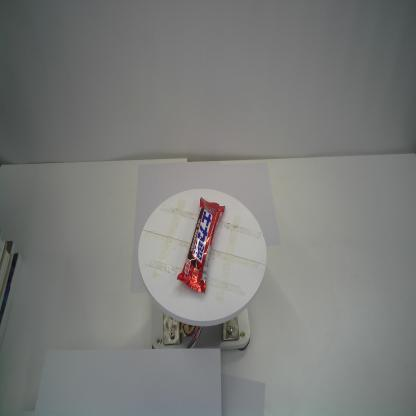Chocolate: (176, 195, 225, 294)
